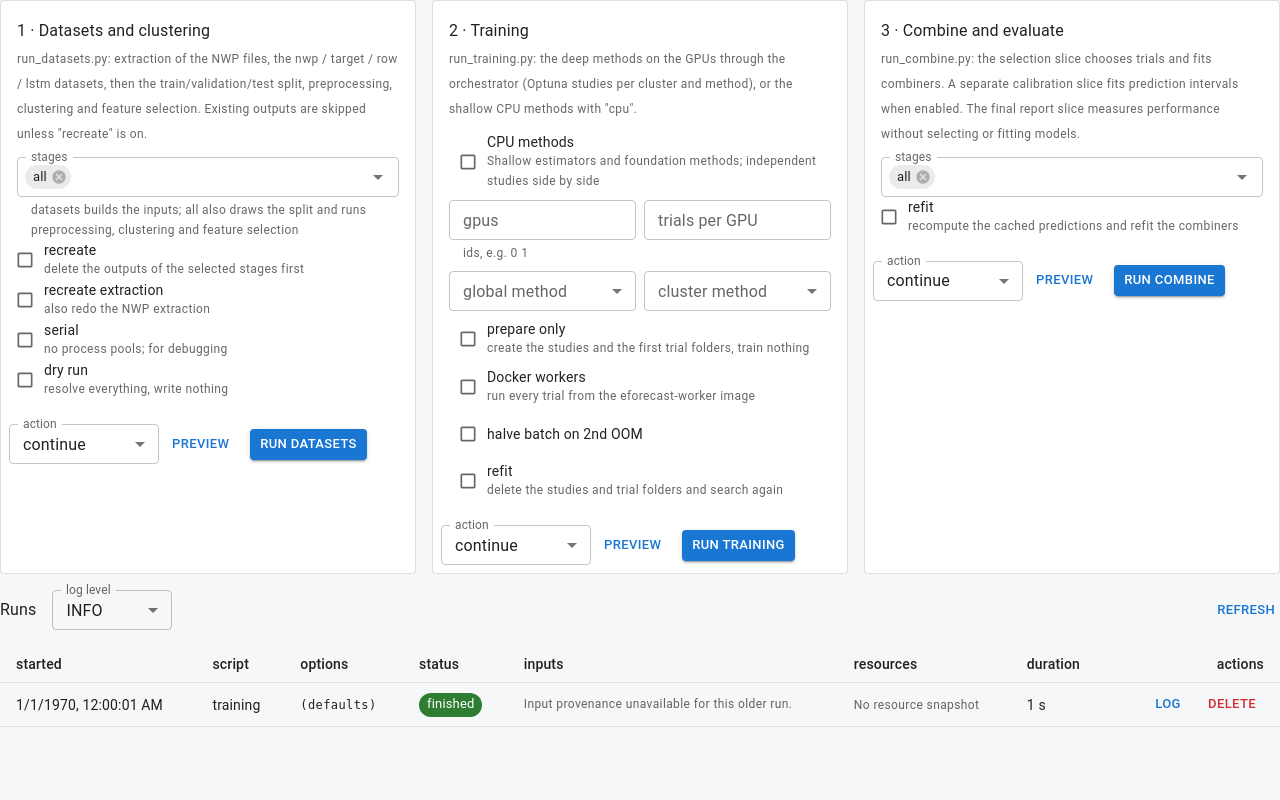
Test: run actions and failures › shows legacy input provenance in the run list and log
Expected: the text "Input provenance unavailable for this older run." is shown, x1=524 y1=695 x2=822 y2=714
Click the button "Log". click: (1168, 705)
box: x1=1136 y1=689 x2=1200 y2=720
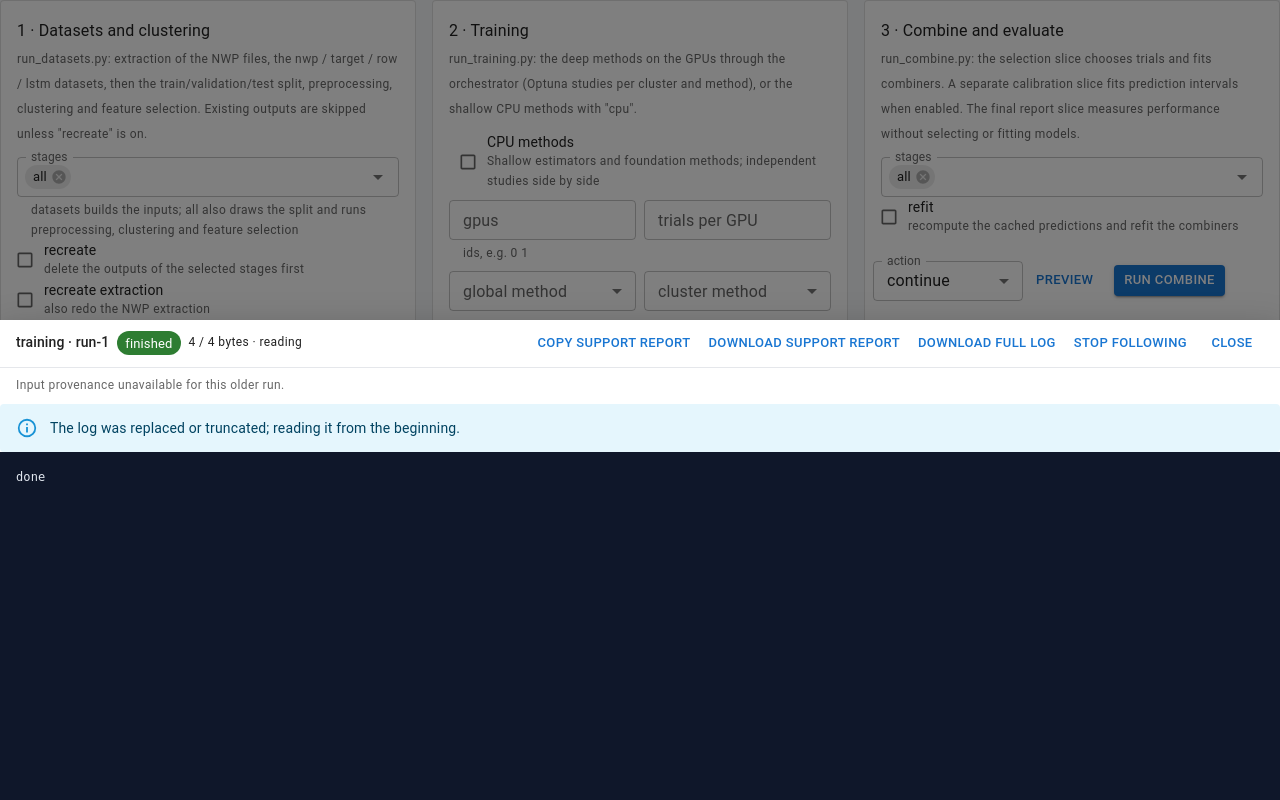
Now the text "done" is shown, box x1=0 y1=452 x2=1279 y2=799
Now the text "Input provenance unavailable for this older run." is shown, box x1=16 y1=378 x2=285 y2=392
